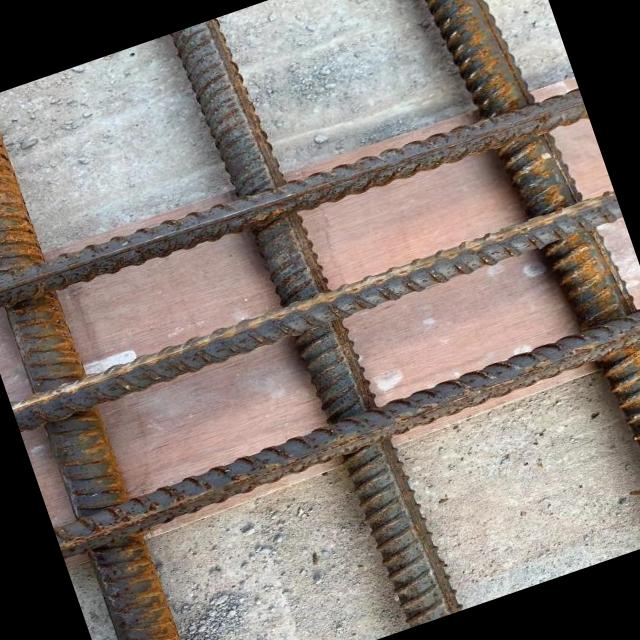ribbed bar: (168, 5, 460, 638), (47, 302, 640, 560), (8, 188, 626, 434), (0, 76, 588, 326), (399, 0, 640, 558), (0, 94, 200, 640)
